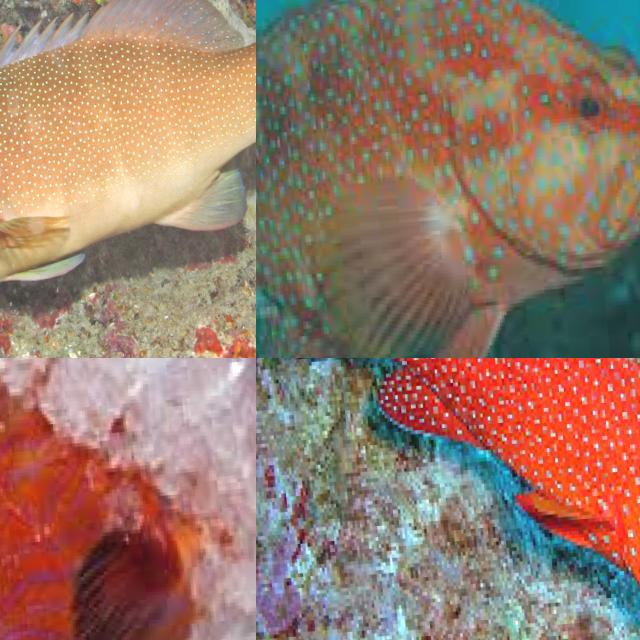Plectropomus-leopardus: (256, 0, 640, 358), (256, 358, 640, 640), (0, 0, 256, 327), (0, 367, 256, 640)
